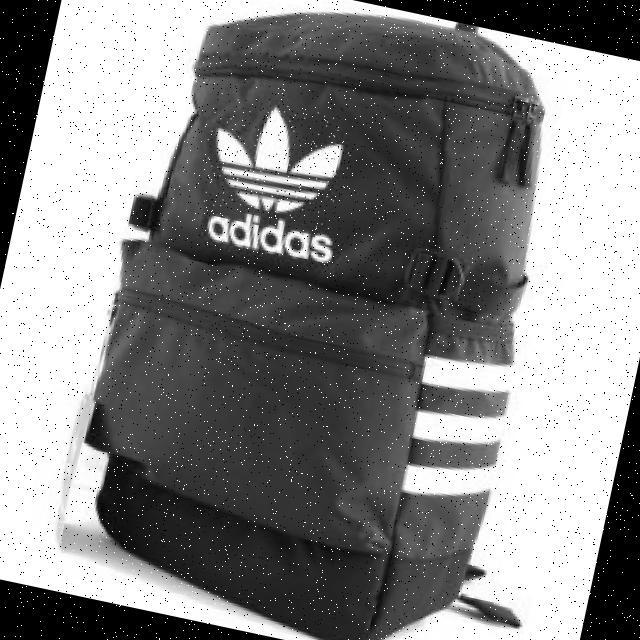Adidas: (194, 90, 359, 232)
